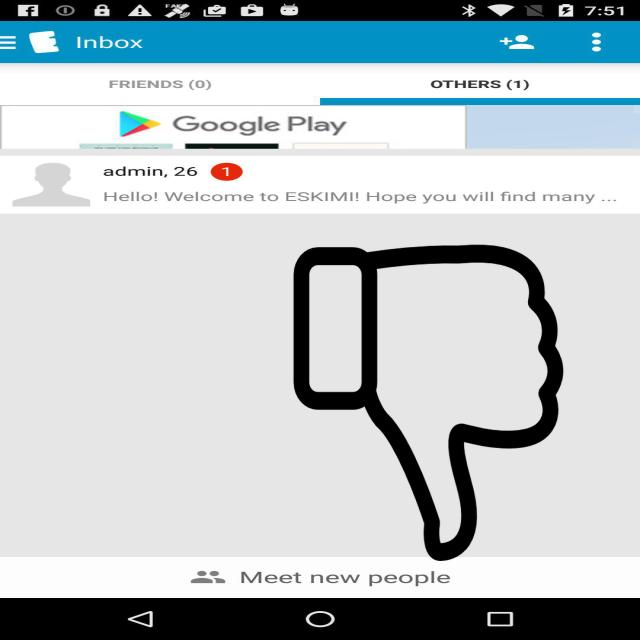obstruction: (290, 245, 567, 561)
